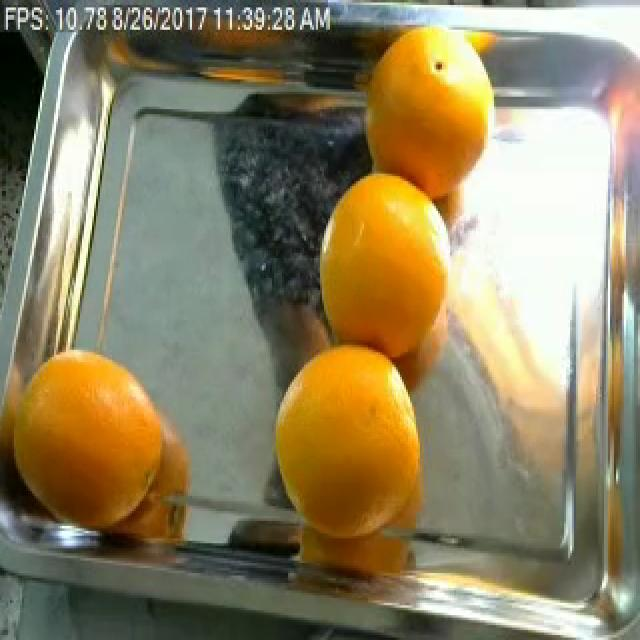Fruit: (344, 17, 506, 231), (302, 159, 462, 362)
